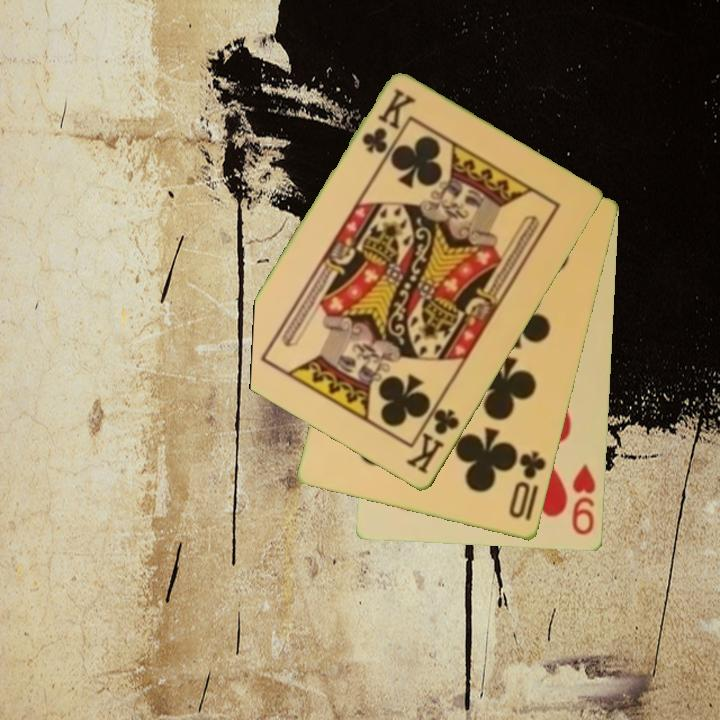10c: (505, 448, 549, 522)
9h: (569, 461, 599, 538)
Kc: (402, 395, 463, 478), (358, 86, 418, 157)
